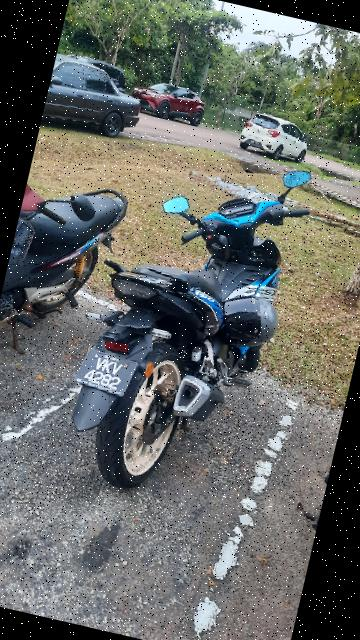License_Plate: (63, 337, 148, 414)
motorcycle: (33, 126, 332, 516), (1, 151, 138, 378)
